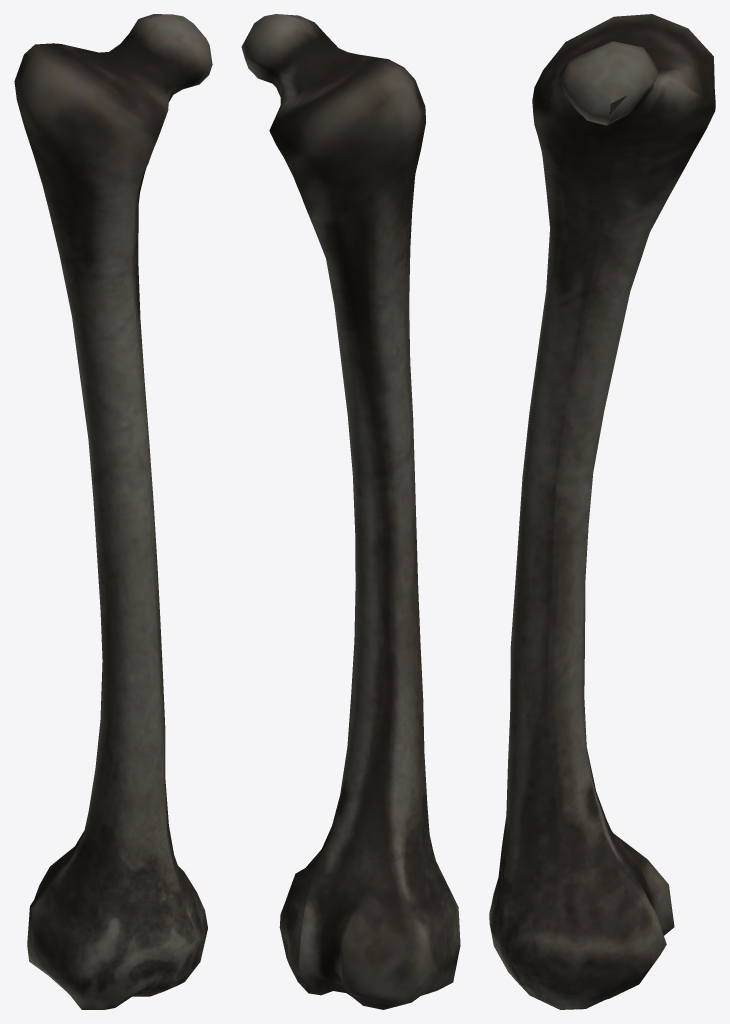
The model's file is right_leg_0.obj.
3 renders of one model, left to right at view 1: azimuth 30°, elevation 25°; view 2: azimuth 150°, elevation 25°; view 3: azimuth 270°, elevation 25°, orthographic. The views are drawn at different scales.
Parts seen in each view (by area): view 1: leg_1_dr_Material; view 2: leg_1_dr_Material; view 3: leg_1_dr_Material.
Part boxes in pixels (left/top/right/bottom): leg_1_dr_Material: left=14, top=14, right=212, bottom=1009; leg_1_dr_Material: left=241, top=14, right=460, bottom=1009; leg_1_dr_Material: left=489, top=14, right=715, bottom=1009.
Bounding box in the file's own units: 0.0706 × 0.3624 × 0.0759.
